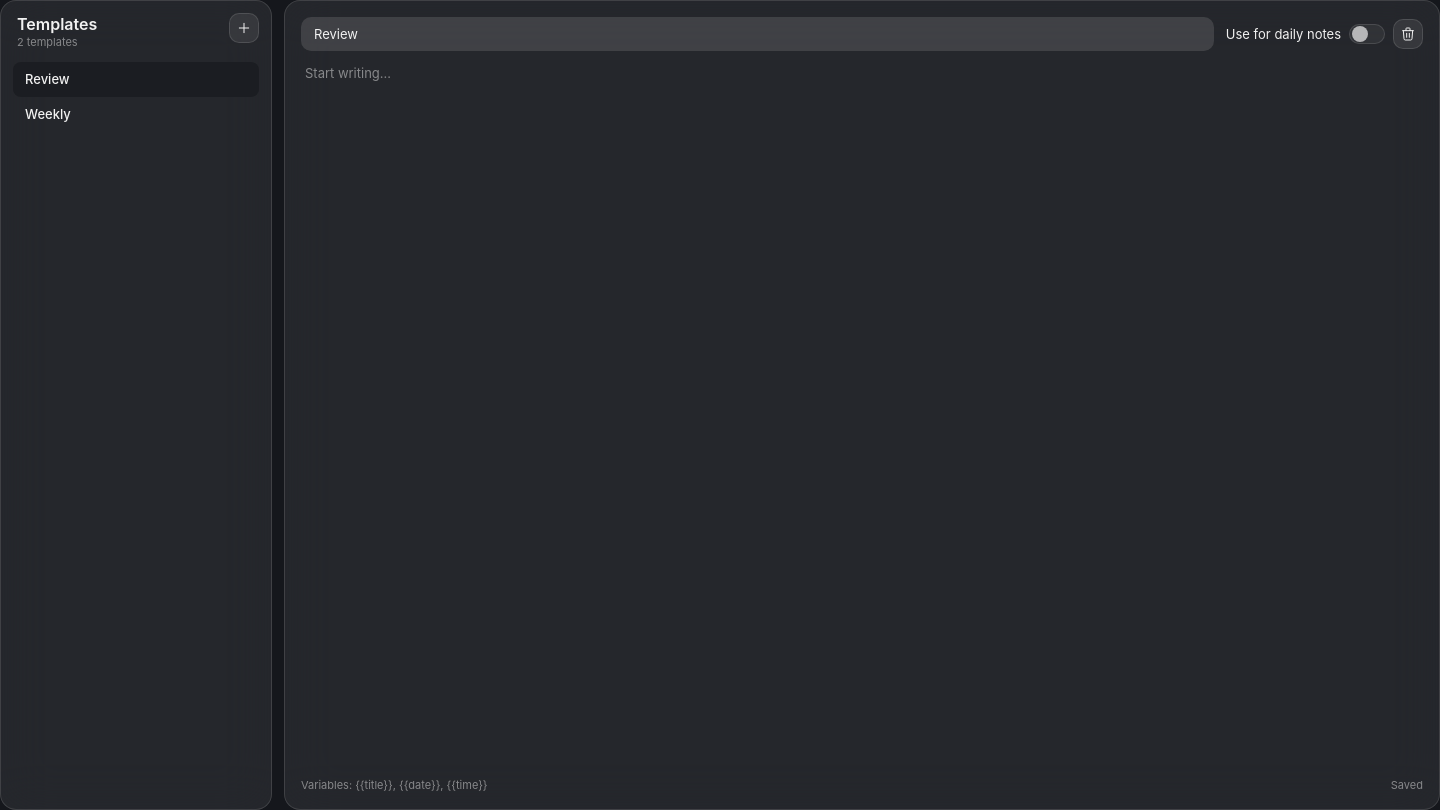
Test: renaming › says so when the name is taken and puts the old name back on Escape
Expected: the list named "Templates" is shown, [13,62,259,132]
Click the button "Weekly". click: click(136, 114)
box: [13,97,259,132]
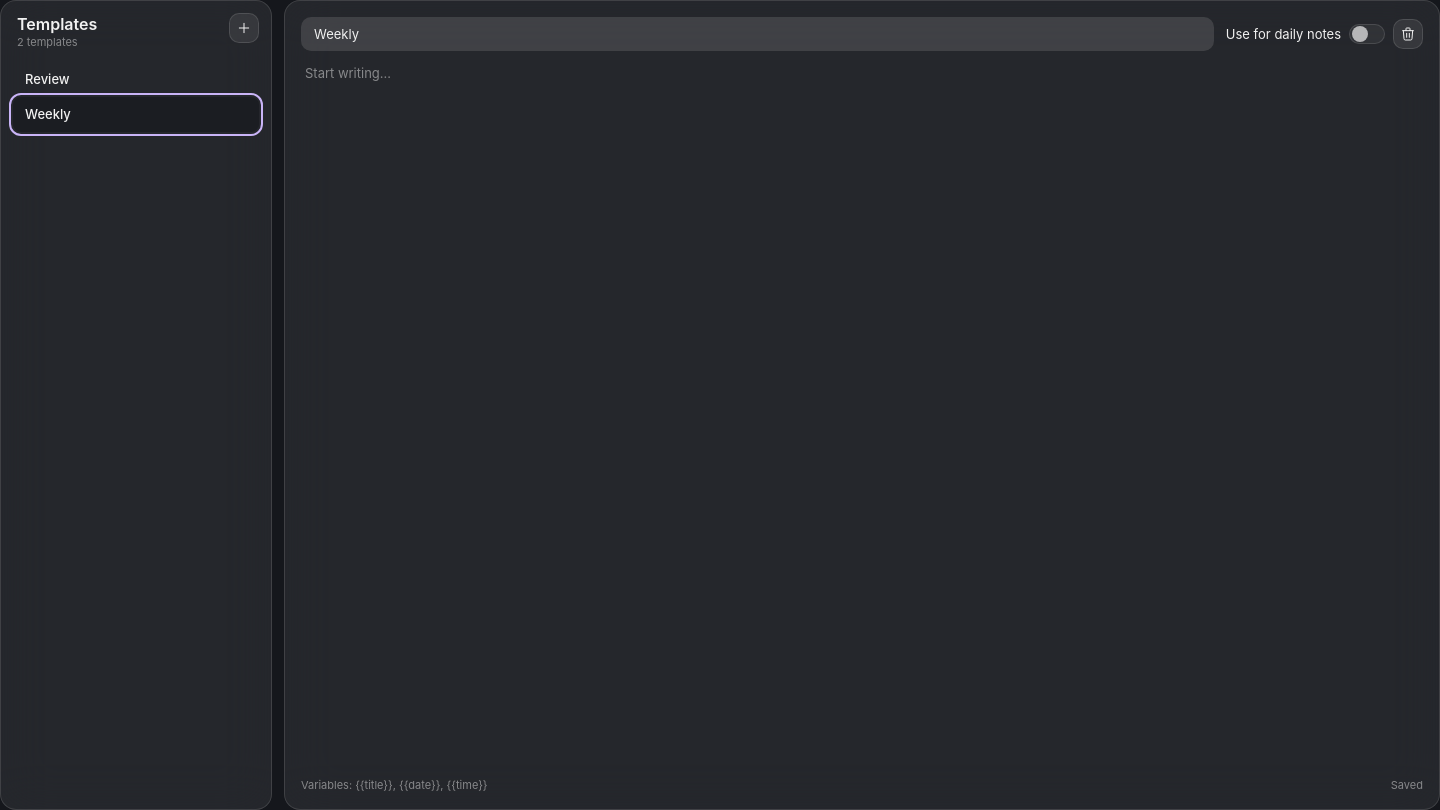
Replace the text in the field named "Template name" with "review". click: (757, 34)
box: [301,17,1214,51]
Then press Enter
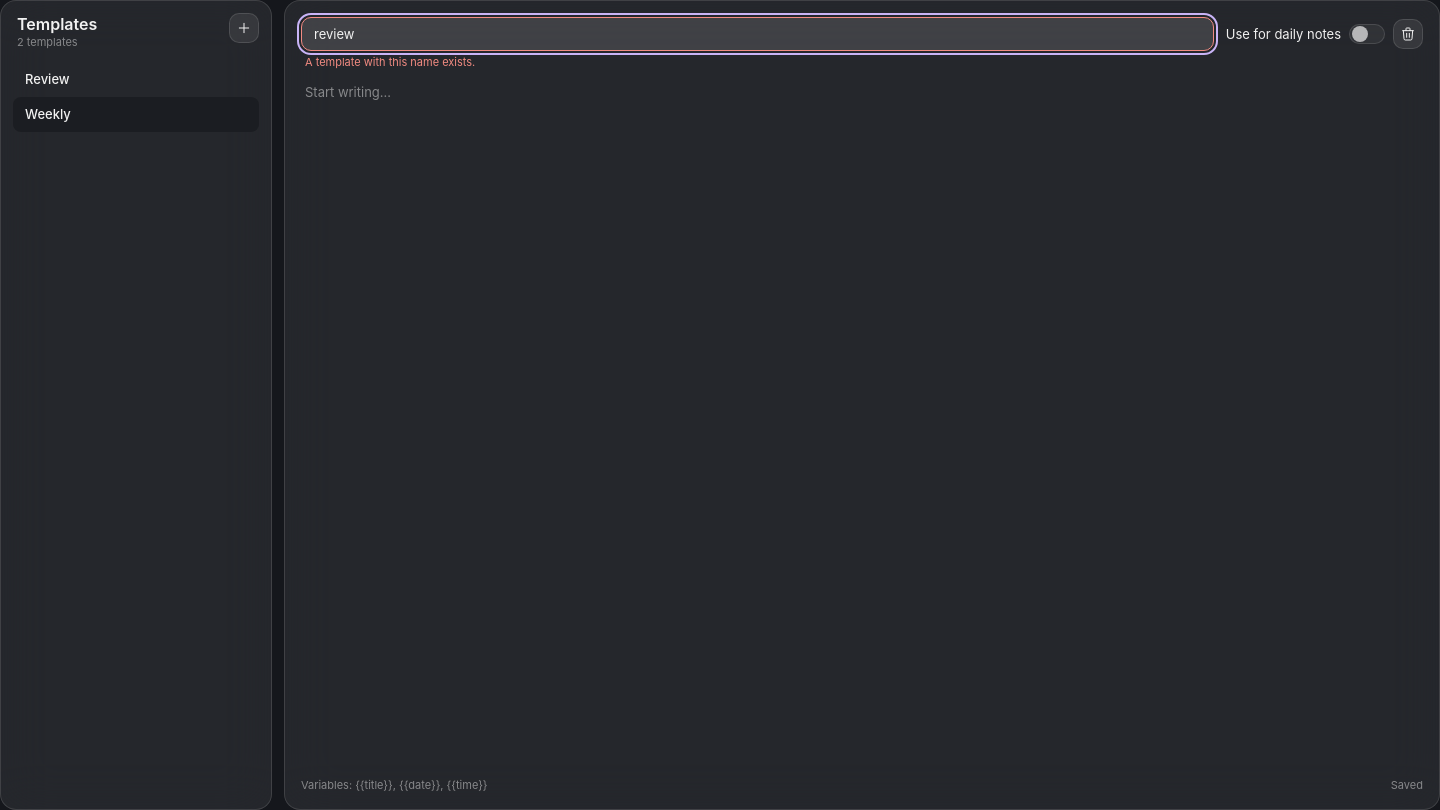
Expected: the message "A template with this name exists." is shown, [305,55,475,69]
Press Escape
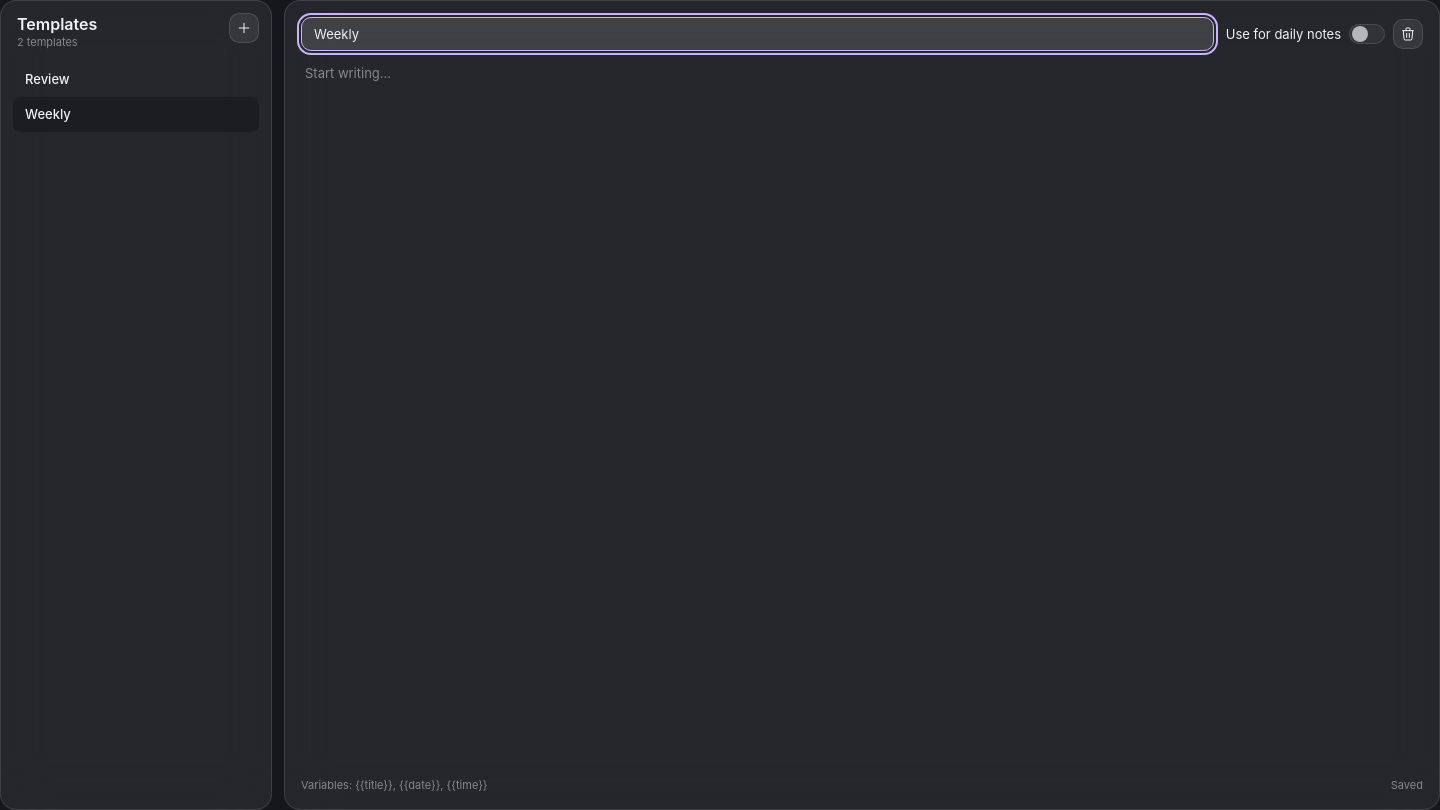
Expected: the field named "Template name" holds "Weekly", [301,17,1214,51]
Expected: the message "A template with this name exists." is gone
